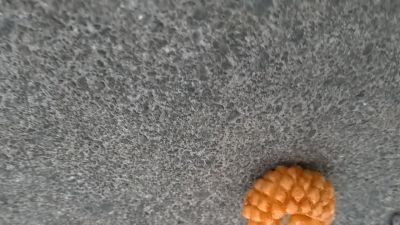eggs: (243, 162, 336, 225)
